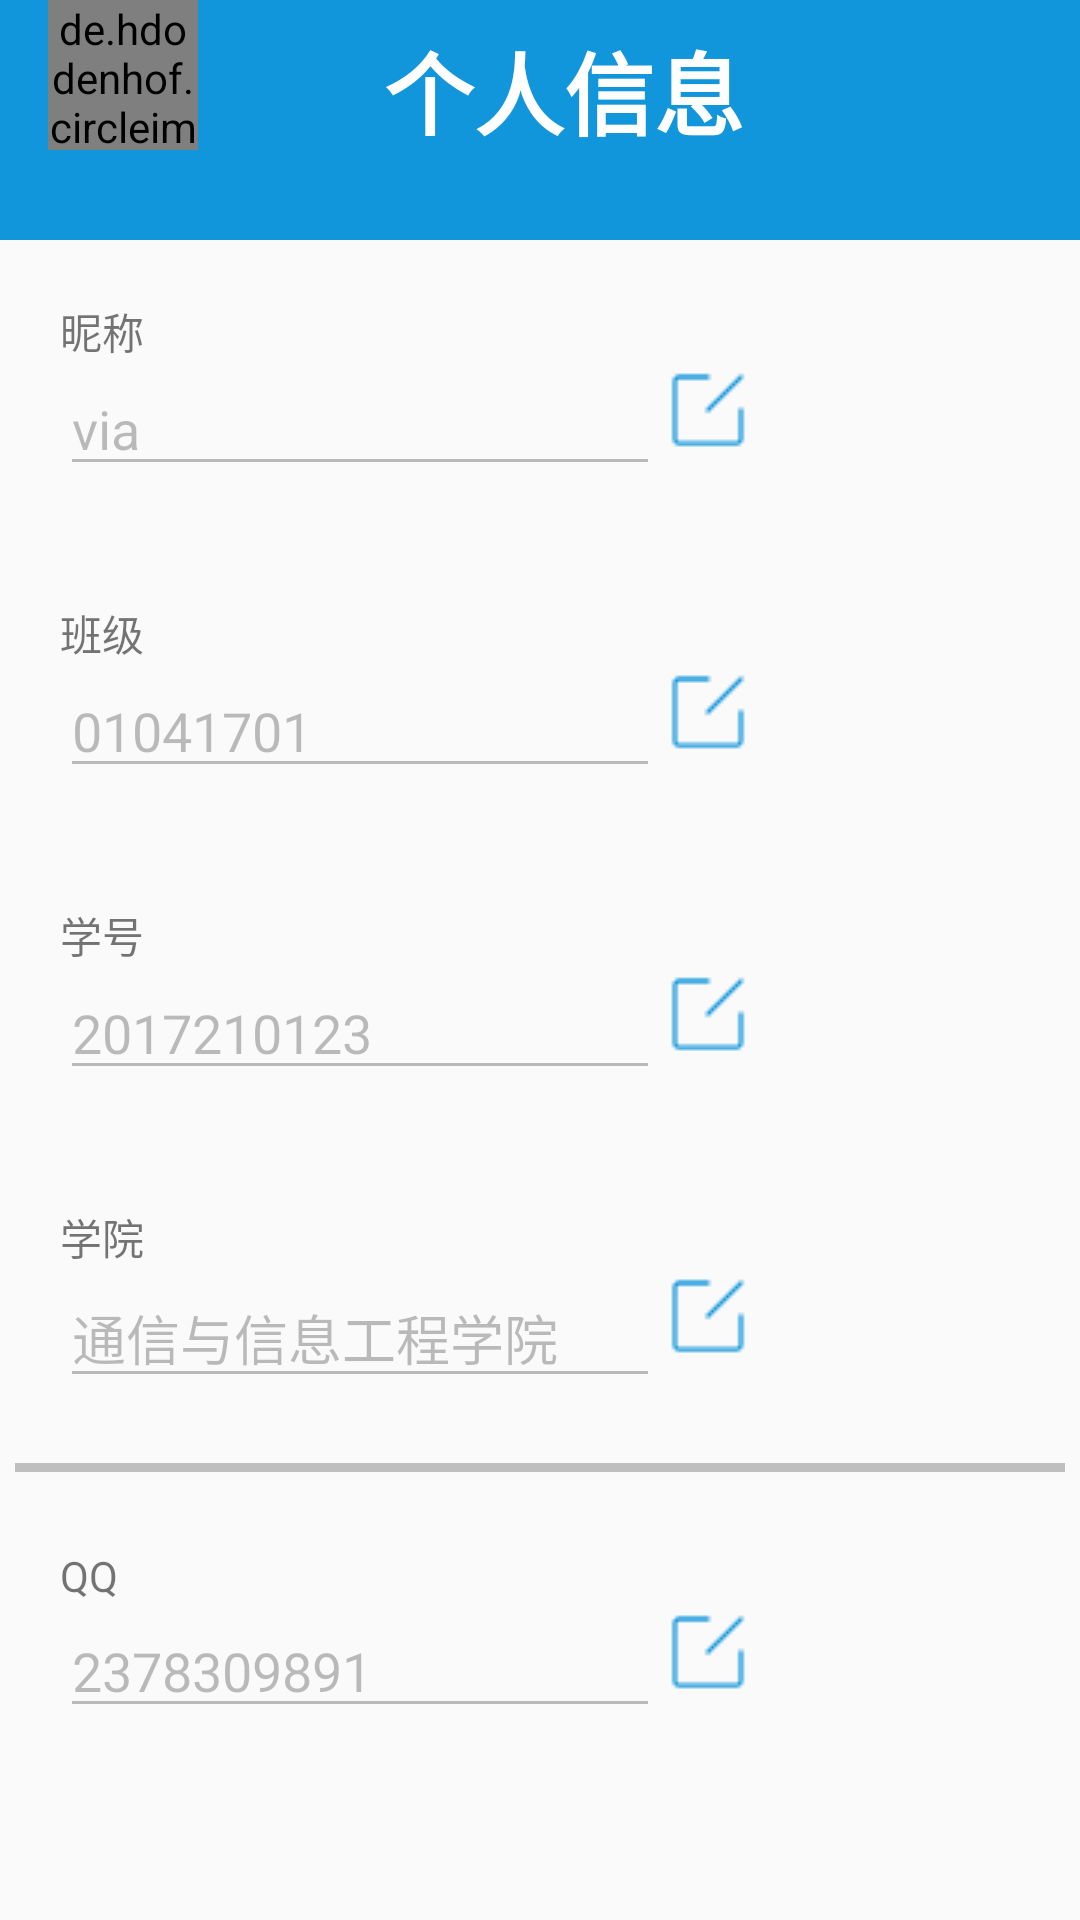

Icons on this 1080px x 1920px Android screen, each with its box as (x1, y1, x2, y2):
edit: (671, 373, 745, 447), (671, 675, 745, 749), (671, 977, 745, 1051), (671, 1279, 745, 1353), (671, 1615, 745, 1689)
